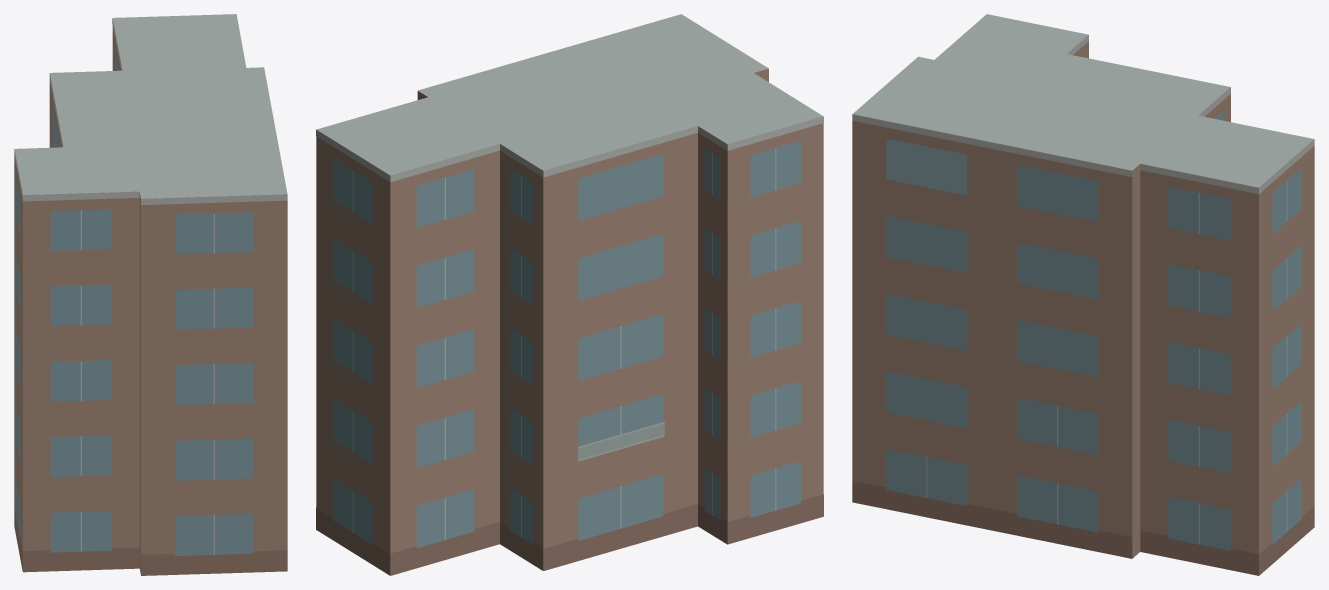
The model's file is survey-upis-33042883.glb.
The picture shows the model from 3 angles, left to right: view 1: azimuth 30°, elevation 25°; view 2: azimuth 150°, elevation 25°; view 3: azimuth 270°, elevation 25°; orthographic projection. The views are drawn at different scales.
Visible parts, largest first — view 1: survey-upis-33042883.tmp; view 2: survey-upis-33042883.tmp; view 3: survey-upis-33042883.tmp.
Part boxes in pixels (x1,y1,x2,y2): survey-upis-33042883.tmp: (14,14,287,575); survey-upis-33042883.tmp: (316,14,823,575); survey-upis-33042883.tmp: (852,14,1314,575).
Size of the model in its own units: 14.12 by 14.7 by 15.88.
